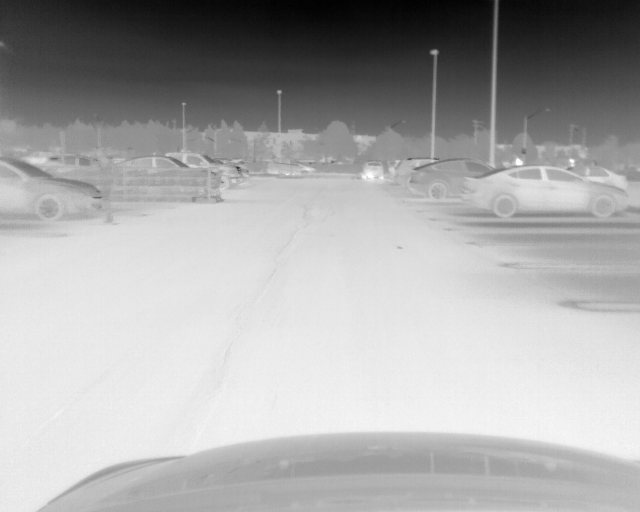car: (460, 164, 627, 219), (1, 157, 101, 222), (117, 155, 217, 197), (408, 159, 500, 199), (167, 151, 247, 193), (565, 164, 631, 191), (393, 157, 441, 183), (268, 157, 316, 178), (361, 160, 385, 180)
